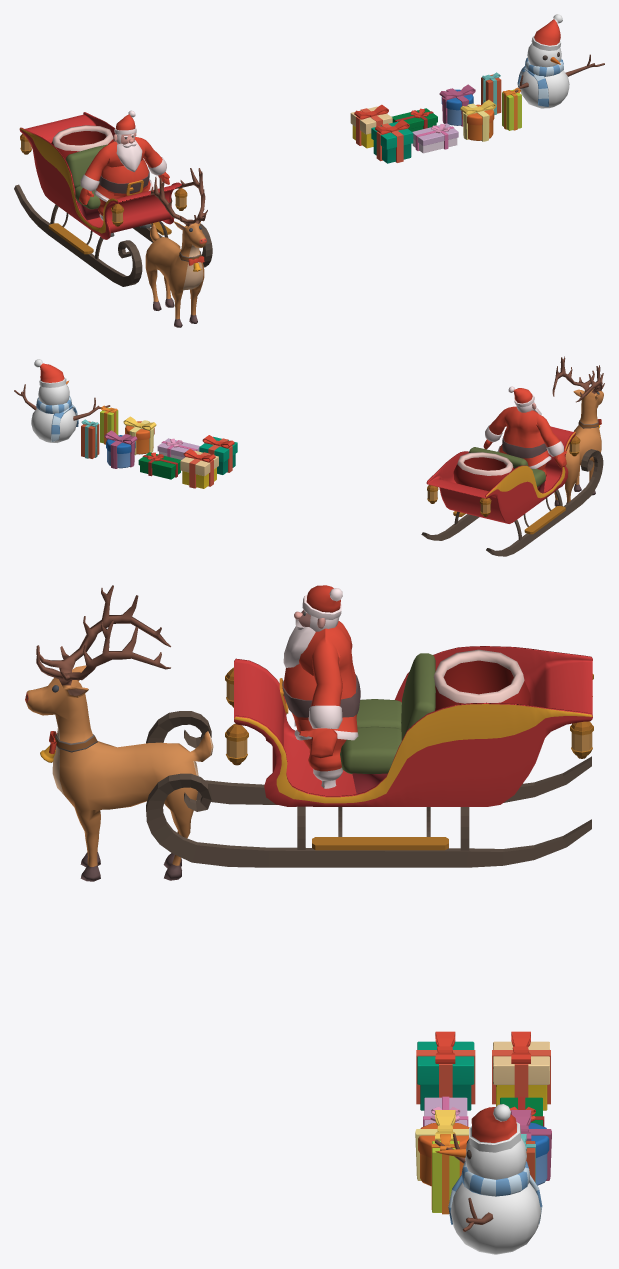
Rendered from santa props (1).fbx.
The picture shows the model from 3 angles, top to bottom: view 1: azimuth 30°, elevation 25°; view 2: azimuth 150°, elevation 25°; view 3: azimuth 270°, elevation 25°; orthographic projection. The views are drawn at different scales.
Visible parts, largest first — view 1: SM_Christmas_Santa_Christmas_Pack_M_0, SM_Christmas_GiftBox08_Christmas_Pack_M_0, SM_Christmas_Snowman02_Christmas_Pack_M_0; view 2: SM_Christmas_Santa_Christmas_Pack_M_0, SM_Christmas_GiftBox08_Christmas_Pack_M_0, SM_Christmas_Snowman02_Christmas_Pack_M_0; view 3: SM_Christmas_Santa_Christmas_Pack_M_0, SM_Christmas_GiftBox08_Christmas_Pack_M_0, SM_Christmas_Snowman02_Christmas_Pack_M_0.
Part boxes in pixels (x1,y1,x2,y2): SM_Christmas_Santa_Christmas_Pack_M_0: (14, 110, 212, 327); SM_Christmas_GiftBox08_Christmas_Pack_M_0: (350, 72, 521, 163); SM_Christmas_Snowman02_Christmas_Pack_M_0: (515, 14, 604, 108); SM_Christmas_Santa_Christmas_Pack_M_0: (421, 356, 604, 556); SM_Christmas_GiftBox08_Christmas_Pack_M_0: (81, 405, 237, 488); SM_Christmas_Snowman02_Christmas_Pack_M_0: (14, 359, 110, 442); SM_Christmas_Santa_Christmas_Pack_M_0: (25, 585, 593, 881); SM_Christmas_GiftBox08_Christmas_Pack_M_0: (415, 1031, 551, 1214); SM_Christmas_Snowman02_Christmas_Pack_M_0: (435, 1104, 542, 1254).
Bounding box in the file's own units: 149 × 40.83 × 71.46.
Materials: 2 (2 with a texture image).
